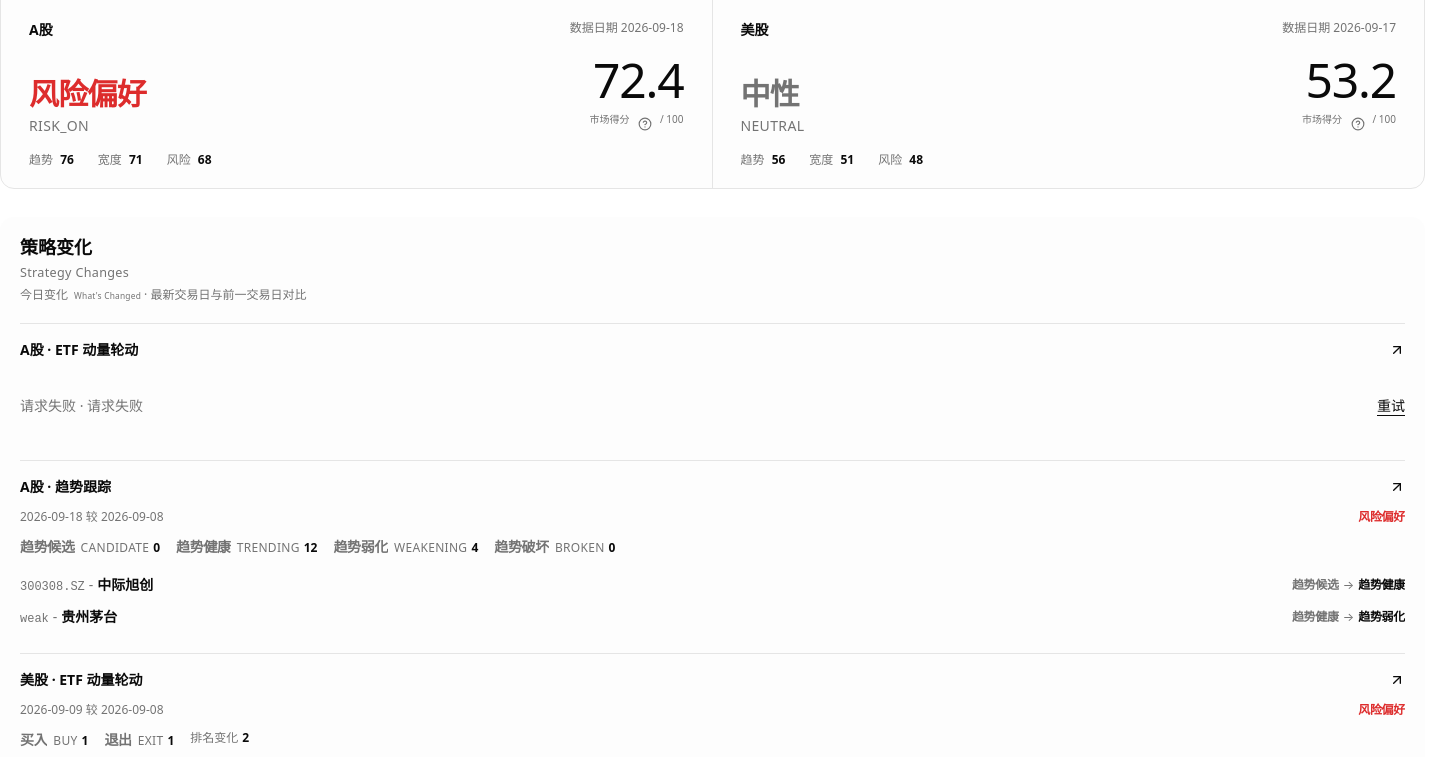
Scenario: public market dashboard › isolates a failed ETF module and can retry it without clearing other sections
This screenshot has width=1440, height=757.
(page scrolled)
What coordinates should you click on to do the following:
click the button "重试"
I would click on:
 (1391, 406)
Its box is [1377, 396, 1405, 416].
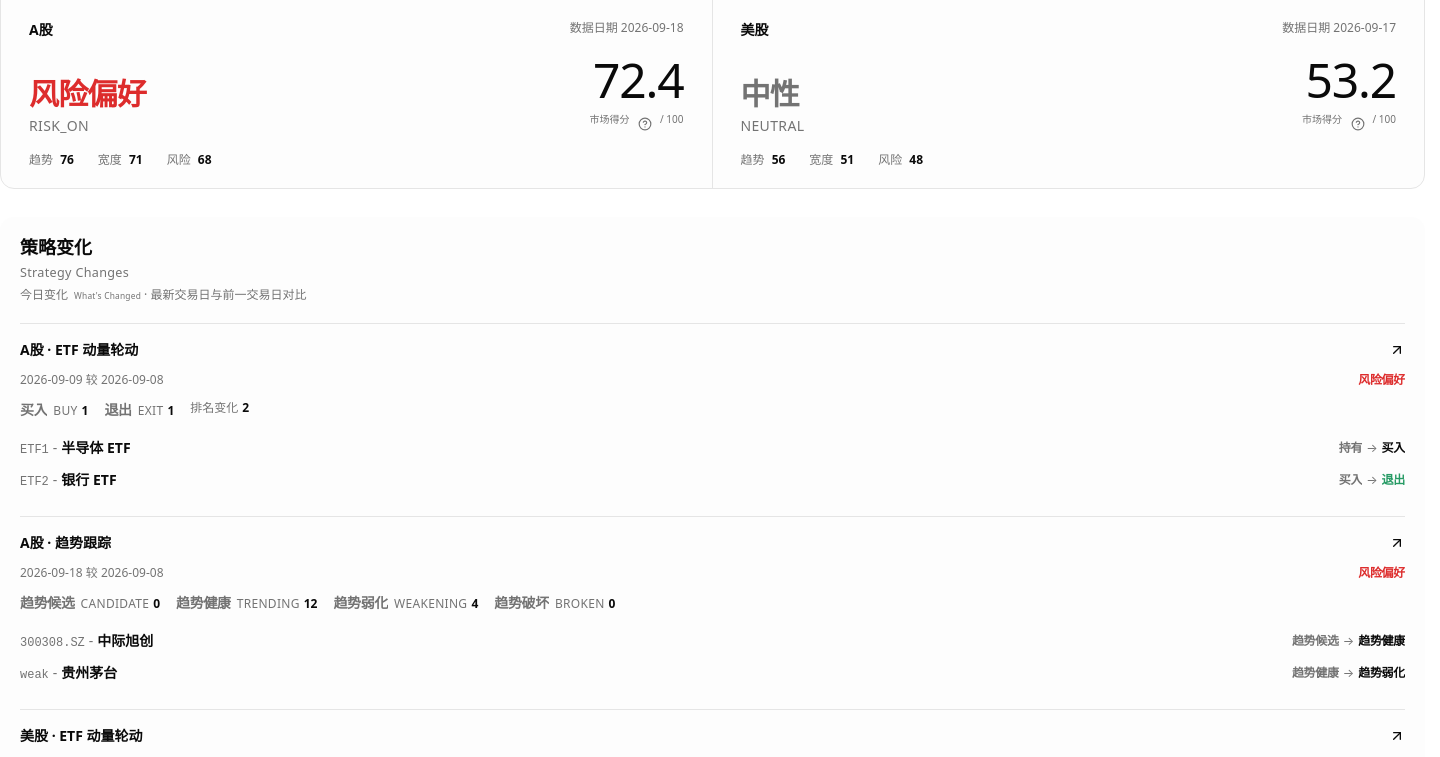
Expected: the text "请求失败" is gone
